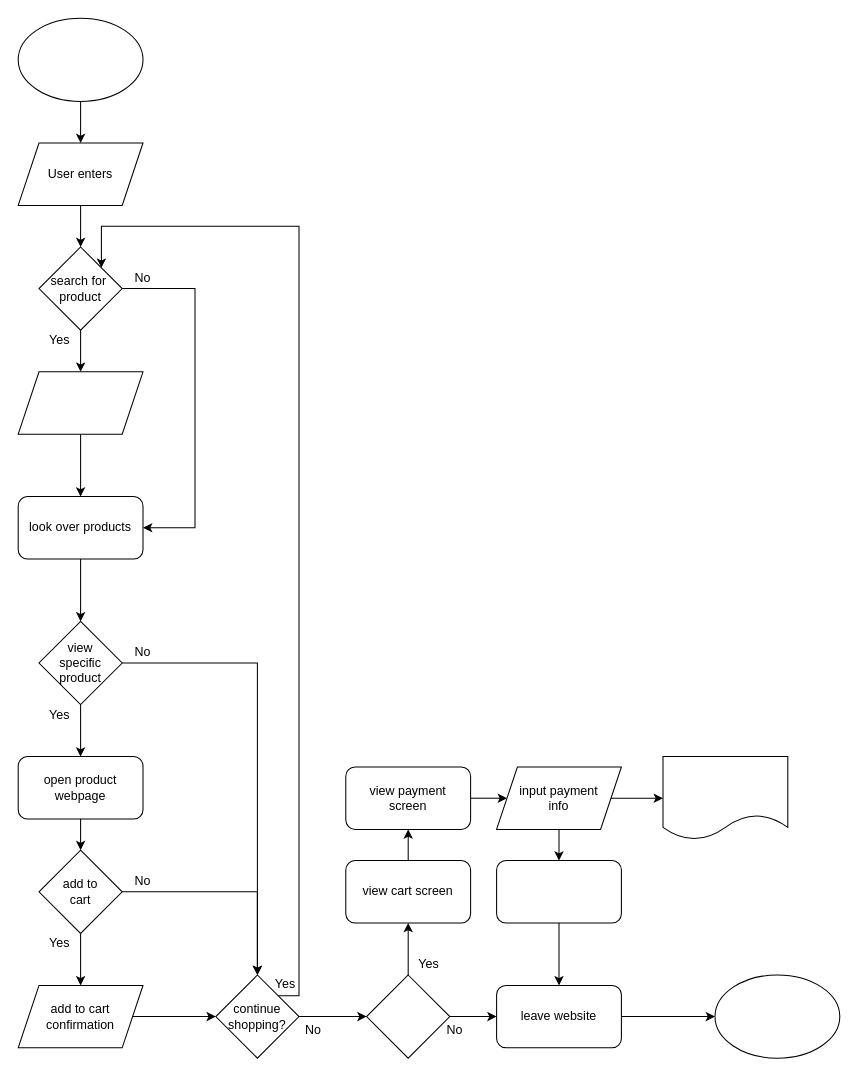
This 858x1076 diagram has some shape labels left out. The centre of each missing label's shape, as x and y in pixels:
"checkout?" belongs at point 408,1016.
"end" belongs at point 777,1016.
"order confirmation email" belongs at point 725,798.
"order confirmation screen" belongs at point 558,891.
"provide input" belongs at point 80,402.
"Start" belongs at point 80,59.
